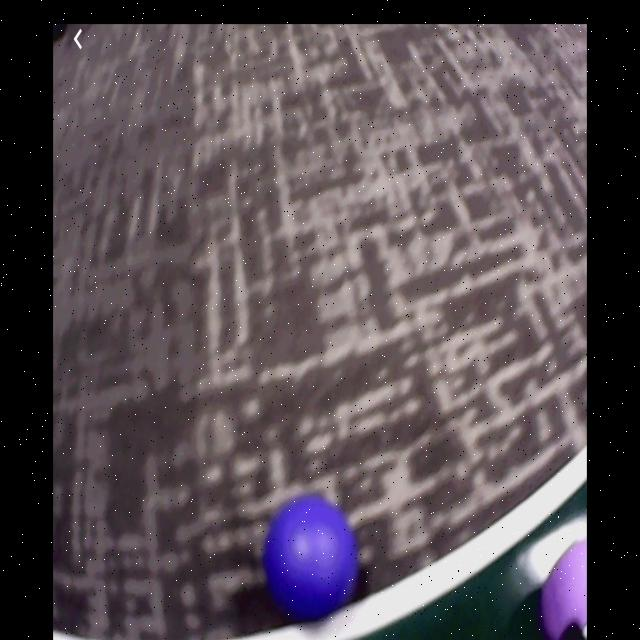ball: (265, 495, 362, 619), (542, 539, 589, 639)
